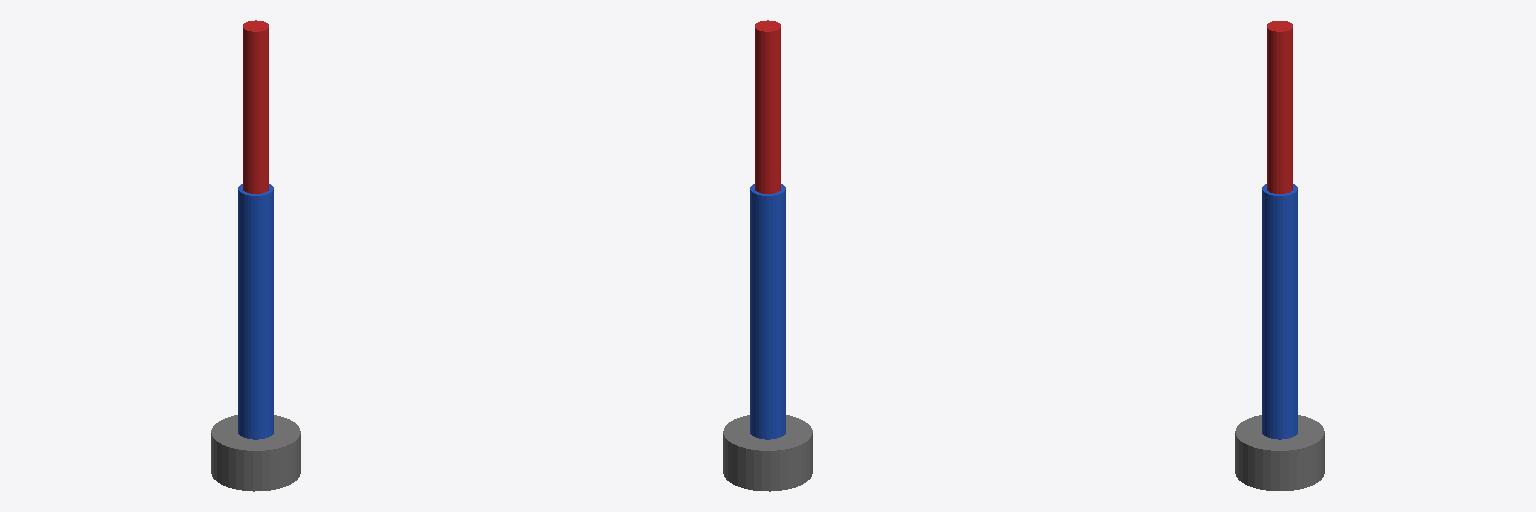
robot.urdf — simple_2r:
<?xml version="1.0" encoding="UTF-8"?>
<!--
  简单 2R 平面机器人（两个旋转关节）
  - base_link: 固定底座
  - link1: 第一段连杆，长 0.3m，沿 Z 轴方向
  - link2: 第二段连杆，长 0.2m，沿 Z 轴方向

  注意：visual 和 collision 使用相同的 geometry 和 origin，保证对齐。
  几何体使用 URDF 原生 primitive（cylinder），无需外部 mesh 文件。
-->
<robot name="simple_2r">

  <!-- ==================== Base Link ==================== -->
  <link name="base_link">
    <visual>
      <origin xyz="0 0 0.025" rpy="0 0 0"/>
      <geometry>
        <cylinder radius="0.05" length="0.05"/>
      </geometry>
      <material name="gray">
        <color rgba="0.5 0.5 0.5 1.0"/>
      </material>
    </visual>
    <collision>
      <origin xyz="0 0 0.025" rpy="0 0 0"/>
      <geometry>
        <cylinder radius="0.05" length="0.05"/>
      </geometry>
    </collision>
    <inertial>
      <origin xyz="0 0 0.025" rpy="0 0 0"/>
      <mass value="1.0"/>
      <inertia ixx="0.001" ixy="0" ixz="0" iyy="0.001" iyz="0" izz="0.001"/>
    </inertial>
  </link>

  <!-- ==================== Joint 1 ==================== -->
  <joint name="joint1" type="revolute">
    <parent link="base_link"/>
    <child link="link1"/>
    <origin xyz="0 0 0.05" rpy="0 0 0"/>
    <axis xyz="0 1 0"/>
    <limit lower="-1.57" upper="1.57" effort="10" velocity="3.14"/>
  </joint>

  <!-- ==================== Link 1 ==================== -->
  <!--
    连杆参数：
      长度 L1 = 0.3m
      半径 R1 = 0.02m
      密度假设 rho = 2700 kg/m^3 (铝)
      质量 m1 = rho * pi * R1^2 * L1 = 2700 * 3.14159 * 0.0004 * 0.3 = 1.018 kg
      惯量（圆柱绕质心）:
        Ixx = Iyy = m*(3*R^2 + L^2)/12 = 1.018*(3*0.0004 + 0.09)/12 = 0.00775
        Izz = m*R^2/2 = 1.018*0.0004/2 = 0.000204
    visual/collision origin: 圆柱质心在连杆中点 (0, 0, L1/2) = (0, 0, 0.15)
  -->
  <link name="link1">
    <visual>
      <origin xyz="0 0 0.15" rpy="0 0 0"/>
      <geometry>
        <cylinder radius="0.02" length="0.3"/>
      </geometry>
      <material name="blue">
        <color rgba="0.2 0.4 0.8 1.0"/>
      </material>
    </visual>
    <collision>
      <origin xyz="0 0 0.15" rpy="0 0 0"/>
      <geometry>
        <cylinder radius="0.02" length="0.3"/>
      </geometry>
    </collision>
    <inertial>
      <origin xyz="0 0 0.15" rpy="0 0 0"/>
      <mass value="1.018"/>
      <inertia ixx="0.00775" ixy="0" ixz="0" iyy="0.00775" iyz="0" izz="0.000204"/>
    </inertial>
  </link>

  <!-- ==================== Joint 2 ==================== -->
  <!--
    joint2 位于 link1 末端，即 z = L1 = 0.3（在 link1 坐标系下）
  -->
  <joint name="joint2" type="revolute">
    <parent link="link1"/>
    <child link="link2"/>
    <origin xyz="0 0 0.3" rpy="0 0 0"/>
    <axis xyz="0 1 0"/>
    <limit lower="-1.57" upper="1.57" effort="10" velocity="3.14"/>
  </joint>

  <!-- ==================== Link 2 ==================== -->
  <!--
    连杆参数：
      长度 L2 = 0.2m
      半径 R2 = 0.015m
      密度 rho = 2700 kg/m^3
      质量 m2 = 2700 * pi * 0.015^2 * 0.2 = 0.382 kg
      惯量:
        Ixx = Iyy = m*(3*R^2 + L^2)/12 = 0.382*(3*0.000225 + 0.04)/12 = 0.00130
        Izz = m*R^2/2 = 0.382*0.000225/2 = 0.0000430
    visual/collision origin: (0, 0, L2/2) = (0, 0, 0.1)
  -->
  <link name="link2">
    <visual>
      <origin xyz="0 0 0.1" rpy="0 0 0"/>
      <geometry>
        <cylinder radius="0.015" length="0.2"/>
      </geometry>
      <material name="red">
        <color rgba="0.8 0.2 0.2 1.0"/>
      </material>
    </visual>
    <collision>
      <origin xyz="0 0 0.1" rpy="0 0 0"/>
      <geometry>
        <cylinder radius="0.015" length="0.2"/>
      </geometry>
    </collision>
    <inertial>
      <origin xyz="0 0 0.1" rpy="0 0 0"/>
      <mass value="0.382"/>
      <inertia ixx="0.00130" ixy="0" ixz="0" iyy="0.00130" iyz="0" izz="0.0000430"/>
    </inertial>
  </link>

</robot>

--- What the picture shows (computed from the rendered views, not written in the file) ---
3 views of the same robot in one strip: view 1: azimuth 30°, elevation 25°; view 2: azimuth 150°, elevation 25°; view 3: azimuth 270°, elevation 25° (orthographic).
Model simple_2r with 3 links and 2 joints (2 revolute), rooted at base_link, posed every joint at zero.
Visible links, largest first — view 1: link1, base_link, link2; view 2: link1, base_link, link2; view 3: link1, base_link, link2.
Link boxes in pixels (x1,y1,x2,y2): link1: (238,184,273,439); base_link: (211,415,300,491); link2: (243,20,268,193); link1: (750,184,785,439); base_link: (723,415,812,491); link2: (755,20,780,193); link1: (1262,184,1297,439); base_link: (1235,415,1324,490); link2: (1267,21,1292,193).
Bounding box of the posed robot: 0.1 × 0.1 × 0.55 m (x, y, z).
Geometry: primitives only (box / cylinder / sphere), no mesh files.
